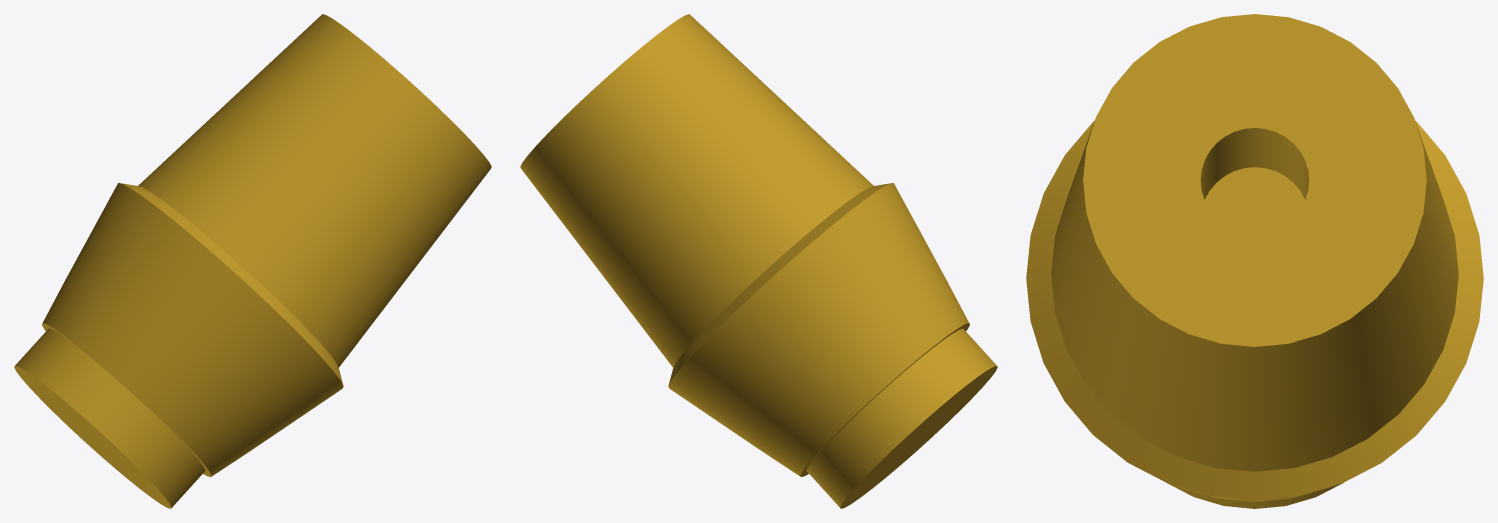
Rendered from AbutmentMolar.fbx.
The picture shows the model from 3 angles, left to right: view 1: azimuth 30°, elevation 25°; view 2: azimuth 150°, elevation 25°; view 3: azimuth 270°, elevation 25°; orthographic projection. The views are drawn at different scales.
Visible parts, largest first — view 1: ToolAbutmentMolar; view 2: ToolAbutmentMolar; view 3: ToolAbutmentMolar.
Boxes of the visible parts, left/top/right/bottom form: ToolAbutmentMolar: left=14, top=14, right=491, bottom=508; ToolAbutmentMolar: left=520, top=14, right=997, bottom=508; ToolAbutmentMolar: left=1026, top=14, right=1483, bottom=508.
Bounding box in the file's own units: 0.2946 × 0.2744 × 0.179.
